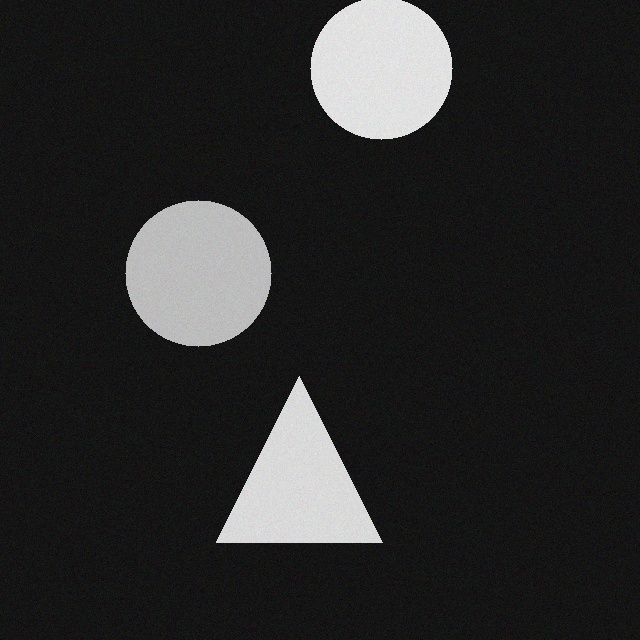circle: (115, 214, 261, 360), (300, 11, 442, 153)
triangle: (206, 390, 372, 556)
